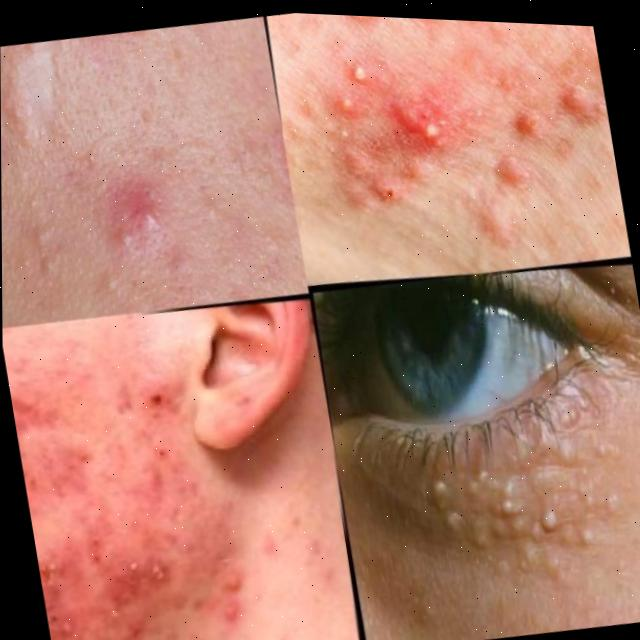Acne: (0, 7, 287, 297), (7, 340, 261, 640), (298, 13, 622, 246), (395, 385, 640, 617)
